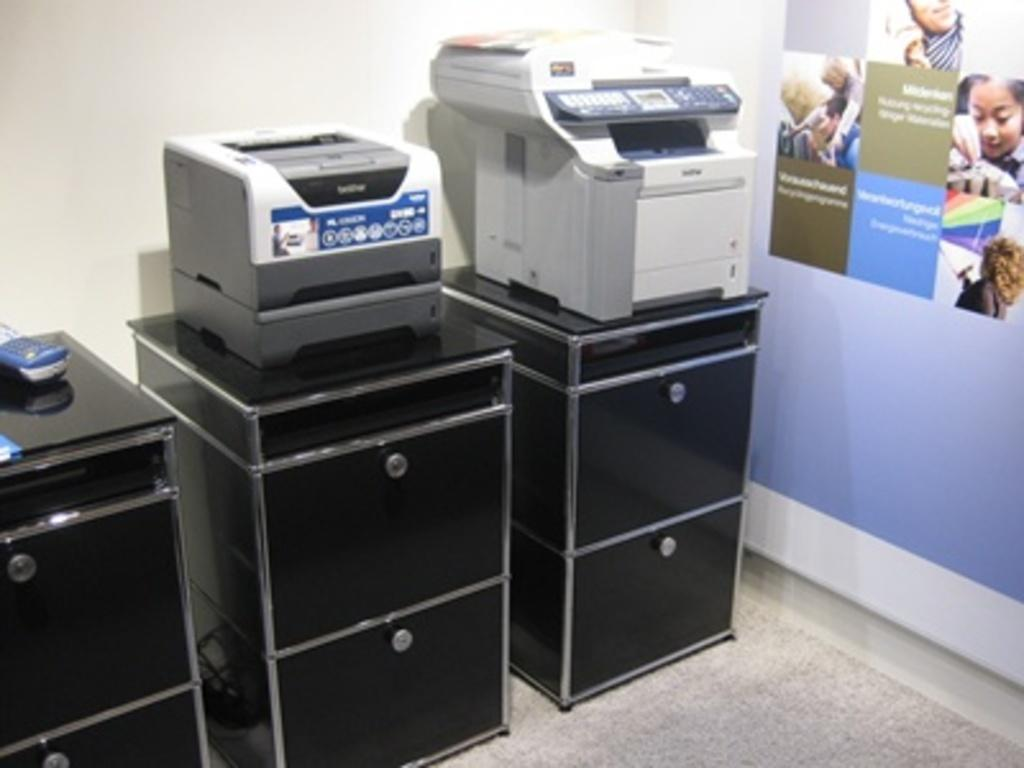cabinet_door: (272, 446, 502, 587), (18, 528, 178, 701), (292, 630, 506, 735), (593, 378, 743, 496), (593, 522, 731, 630), (35, 717, 191, 768)
handle: (374, 446, 412, 493), (386, 620, 418, 664), (651, 528, 683, 572), (9, 546, 39, 589), (664, 378, 687, 410), (46, 745, 72, 768)
